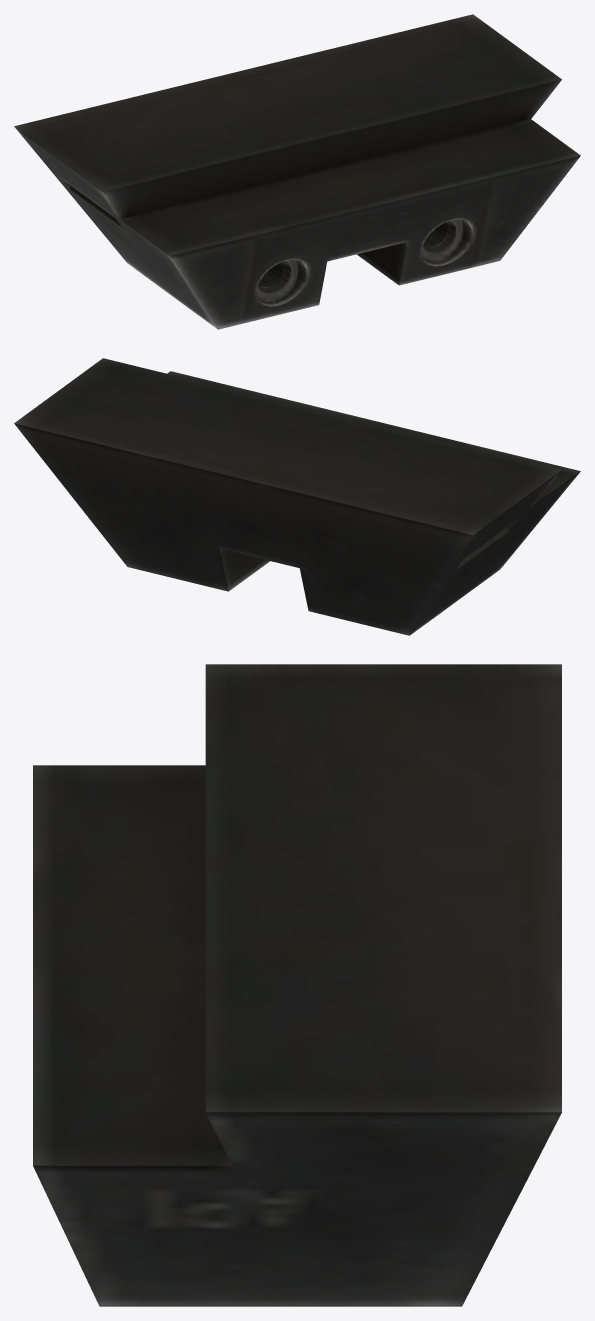
3 renders of one model, top to bottom at view 1: azimuth 30°, elevation 25°; view 2: azimuth 150°, elevation 25°; view 3: azimuth 270°, elevation 25°, orthographic. The views are drawn at different scales.
Parts seen in each view (by area): view 1: TW_630765cb962d0247b029dc45_PZ_Import; view 2: TW_630765cb962d0247b029dc45_PZ_Import; view 3: TW_630765cb962d0247b029dc45_PZ_Import.
Boxes of the visible parts, <box> form: TW_630765cb962d0247b029dc45_PZ_Import: <box>14,14,580,329</box>; TW_630765cb962d0247b029dc45_PZ_Import: <box>14,358,580,635</box>; TW_630765cb962d0247b029dc45_PZ_Import: <box>33,664,561,1306</box>.
Bounding box in the file's own units: 0.0123 × 0.00615 × 0.0036.
Materials: 1 (1 with a texture image).
